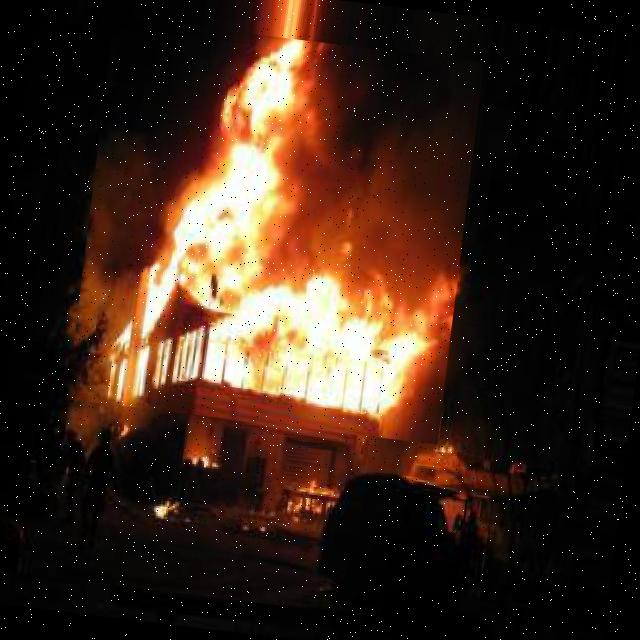fire: (66, 17, 484, 444)
